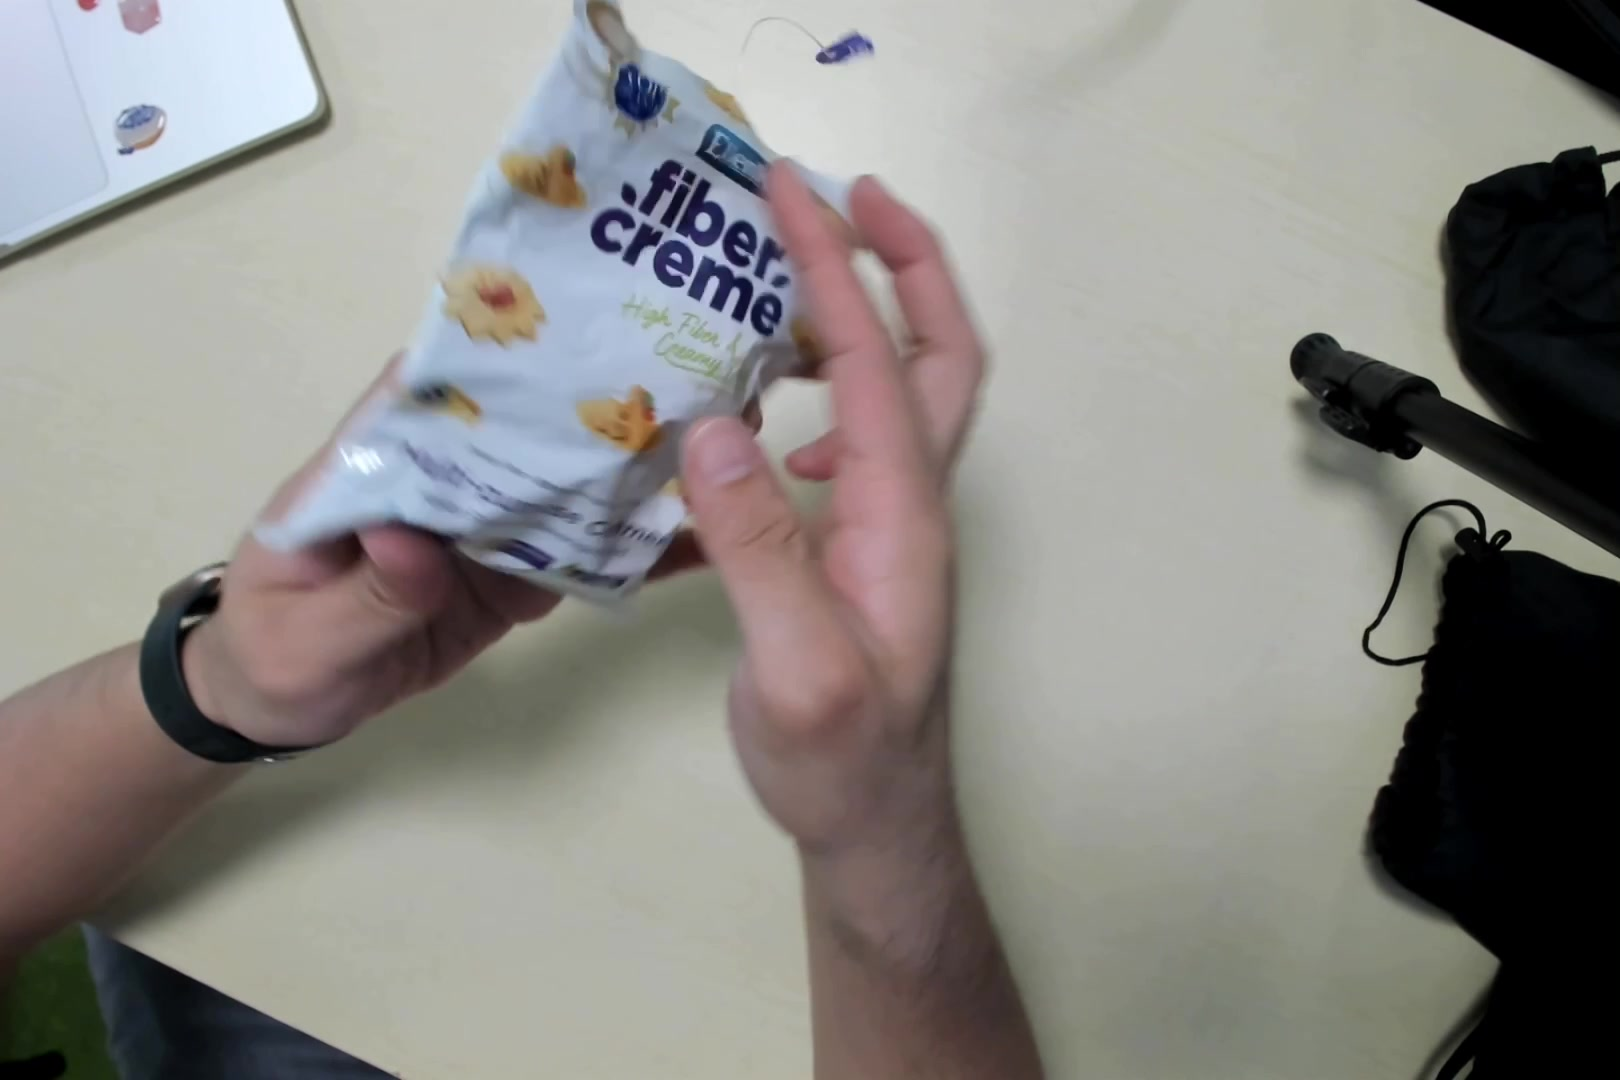OtherBakingNeeds_100-199g_Halal_NonHealthy: (284, 1, 855, 614)
